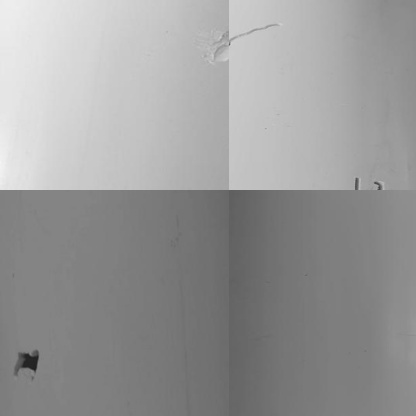fengxi: (350, 175, 361, 191)
kongdong: (13, 351, 38, 384), (374, 179, 385, 191)
sunshang: (231, 18, 282, 49), (207, 21, 227, 66)
